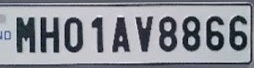character: (14, 15, 36, 53), (39, 15, 60, 54), (110, 13, 130, 53), (228, 14, 249, 52), (134, 14, 154, 53), (63, 16, 84, 53), (157, 15, 178, 52), (204, 14, 224, 52), (181, 15, 201, 52), (89, 14, 104, 54)
